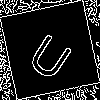U: (25, 25, 80, 83)
